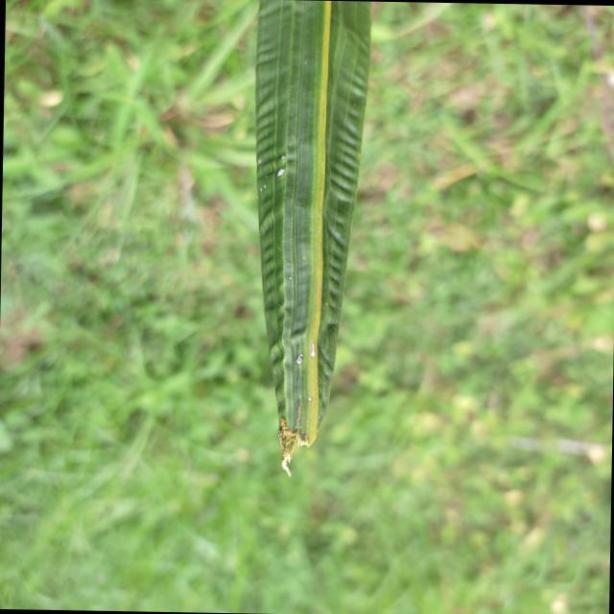Boron: (247, 0, 374, 484)
